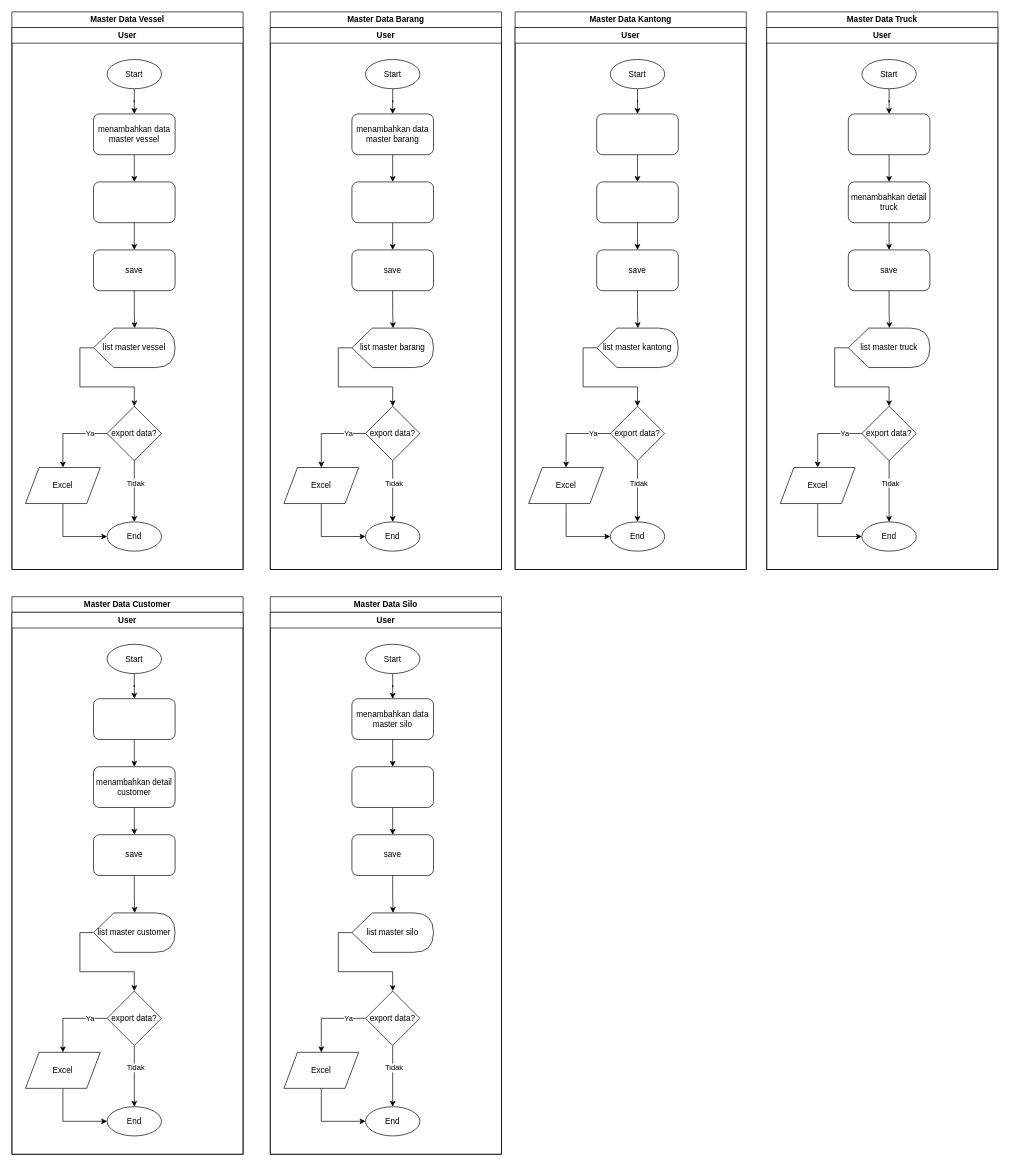
The diagram is 1010 pixels wide and 1166 high, and some of its shapes have lost their labels. The shapes that lost their labels are listed below. From the top down, each one's centre as x and y in pixels, then its label:
the point at 637,134: menambahkan data master kantong
the point at 889,134: menambahkan data master truck
the point at 134,202: menambahkan detail vessel
the point at 392,202: menambahkan detail barang
the point at 637,202: menambahkan detail kantong
the point at 134,719: menambahkan data master customer
the point at 392,787: menambahkan detail silo
